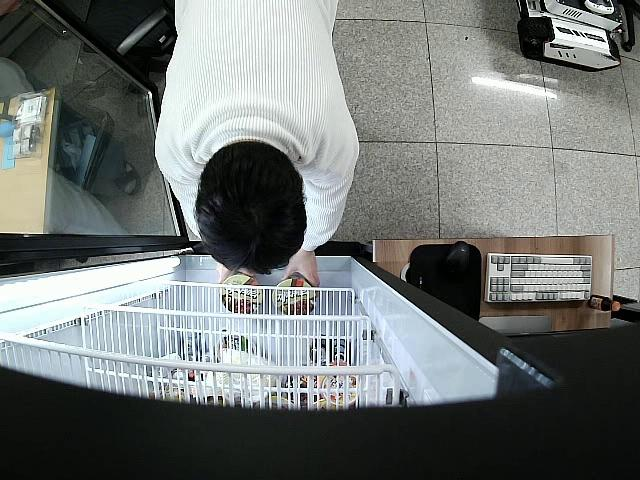00_hand: (281, 251, 319, 287), (217, 262, 256, 284)
03_chapagetti_L: (221, 275, 265, 314), (274, 278, 316, 314)
